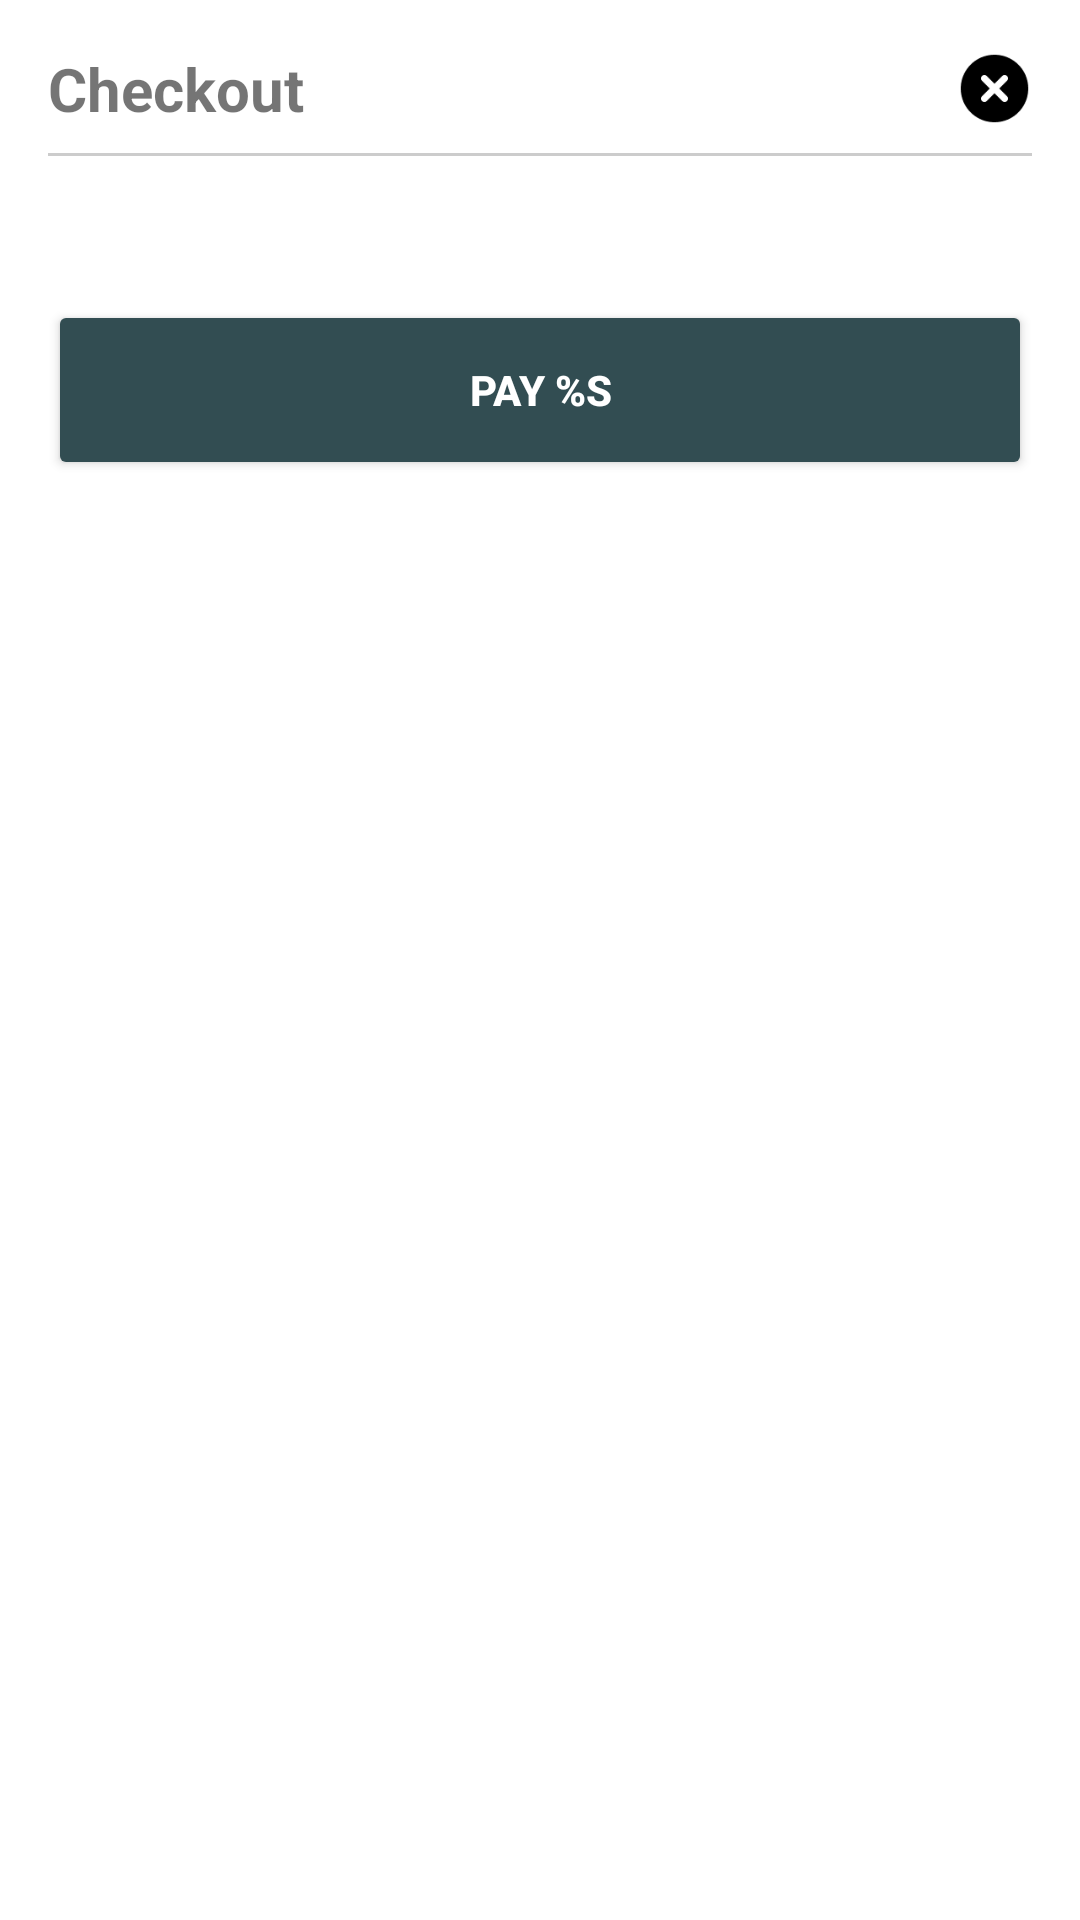

Named icons in this screenshot (1080*1920) and their centers, point (x, y):
close: point (994, 88)
